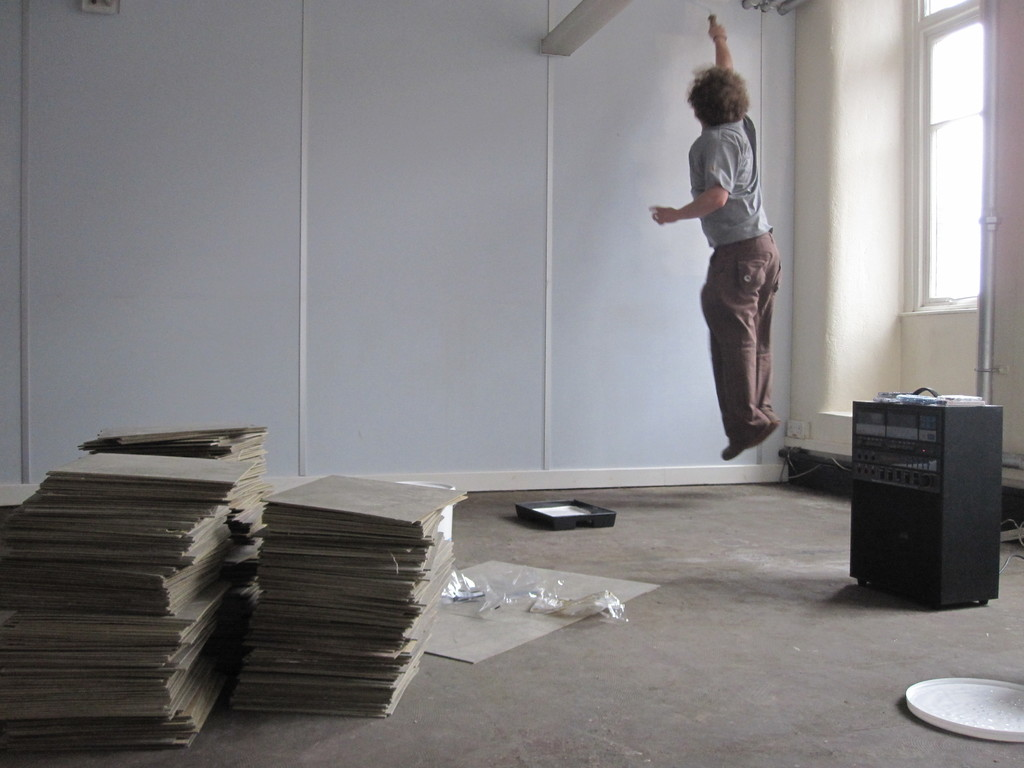Footwear: (719, 425, 769, 461)
